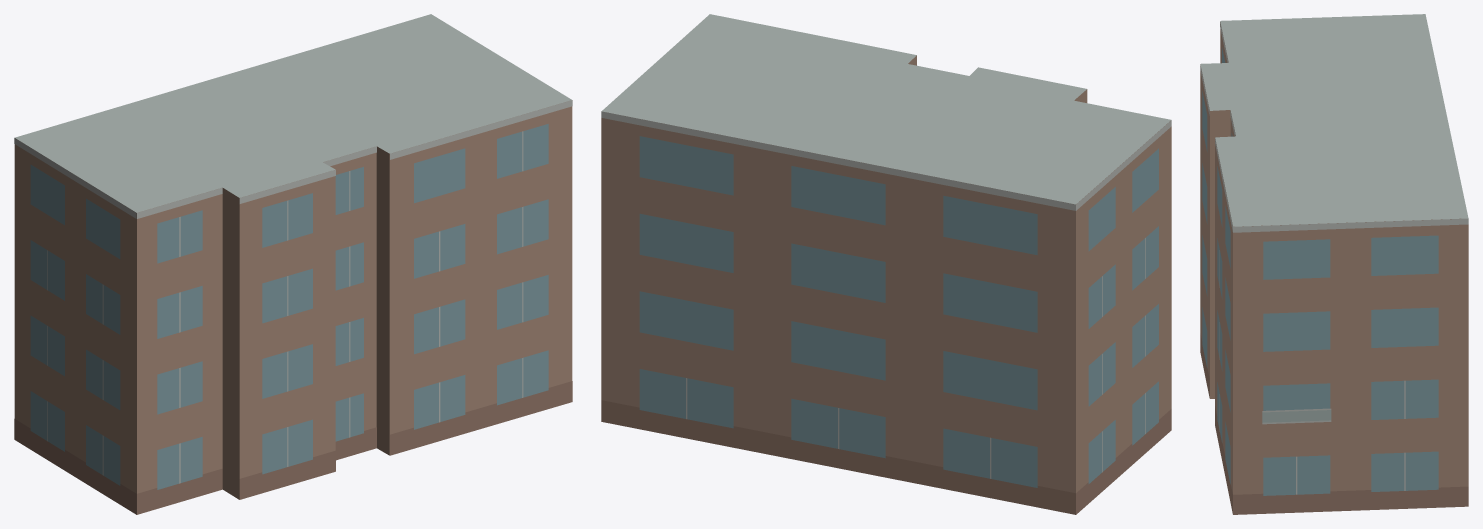
Rendered from survey-upis-32993920.glb.
3 views of the same model, side by side, from view 1: azimuth 30°, elevation 25°; view 2: azimuth 150°, elevation 25°; view 3: azimuth 270°, elevation 25° (orthographic). The views are drawn at different scales.
Parts seen in each view (by area): view 1: survey-upis-32993920.tmp; view 2: survey-upis-32993920.tmp; view 3: survey-upis-32993920.tmp.
Boxes of the visible parts, bbox=[...] form: survey-upis-32993920.tmp: bbox=[14, 14, 572, 514]; survey-upis-32993920.tmp: bbox=[601, 14, 1171, 514]; survey-upis-32993920.tmp: bbox=[1200, 14, 1468, 514].
Bounding box in the file's own units: 18.54 × 11.7 × 9.88.
